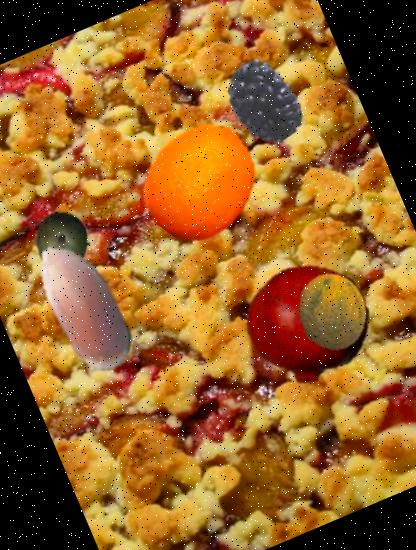Cantaloupe: (280, 260, 385, 365)
Hazelnut: (0, 214, 177, 399)
Lemon: (120, 98, 285, 263)
Mango: (23, 201, 102, 280)
Mulberry: (206, 44, 321, 159)
Pomegranate: (228, 242, 390, 405)
